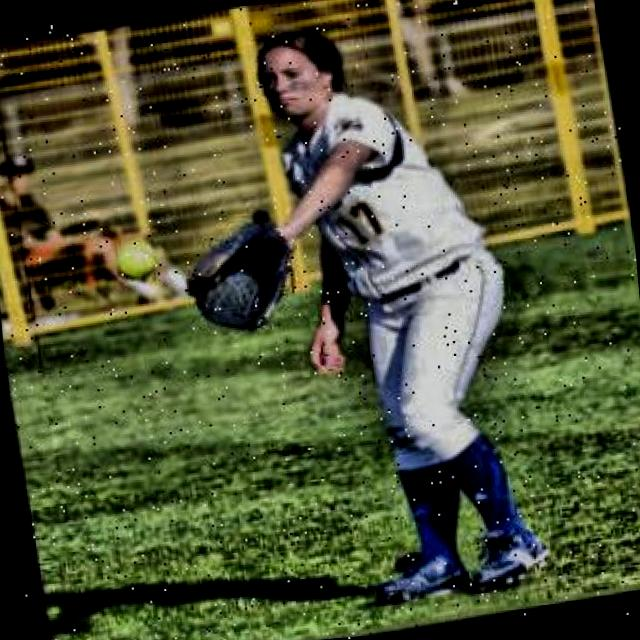Tennis Ball: (113, 232, 168, 290)
